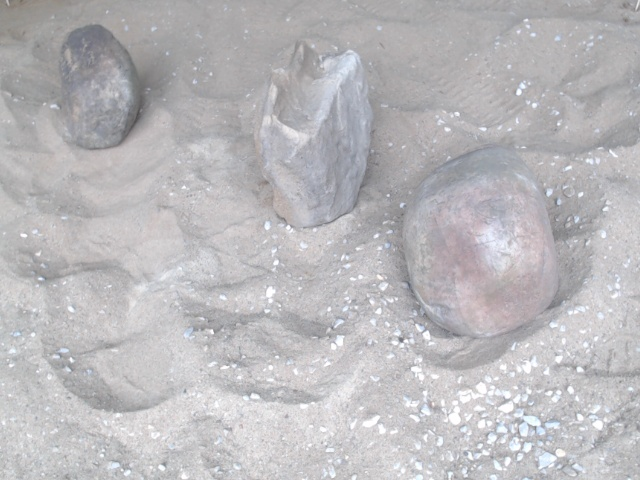rock: (397, 141, 562, 345), (249, 33, 379, 235), (53, 20, 144, 155)
